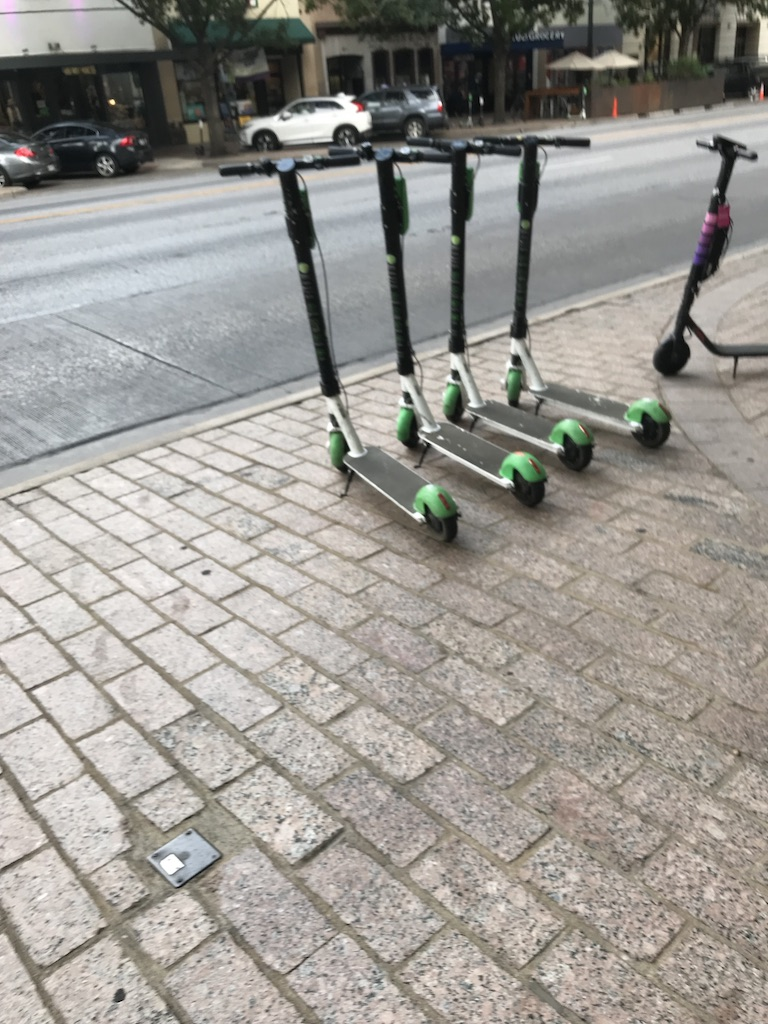scooter: (217, 153, 462, 544), (327, 142, 548, 509), (404, 136, 596, 473), (474, 135, 673, 449), (652, 134, 765, 381)
